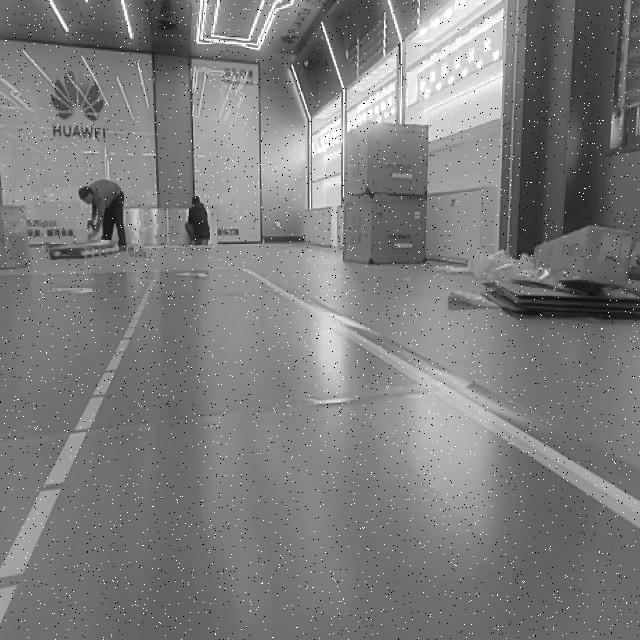left_lane: (0, 287, 151, 624)
right_lane: (251, 269, 638, 532)
